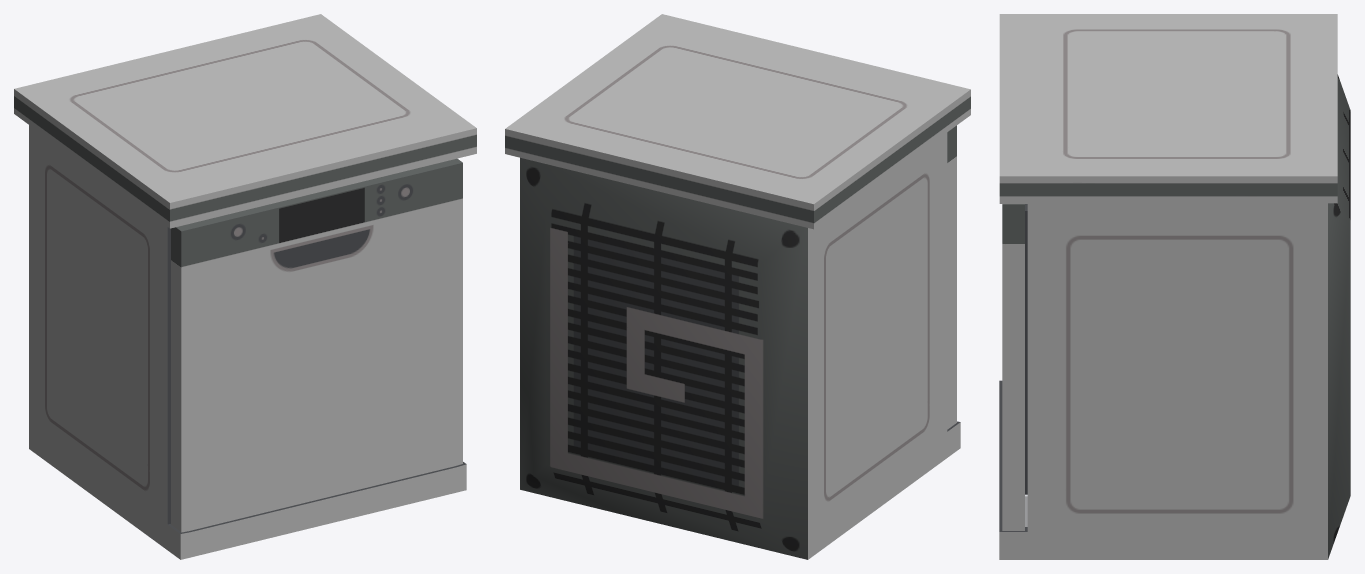
Rendered from ffddc030-1f83-4c6e-96ff-0f6f4659e5d0.glb.
3 views of the same model, side by side, from view 1: azimuth 30°, elevation 25°; view 2: azimuth 150°, elevation 25°; view 3: azimuth 270°, elevation 25° (orthographic). The views are drawn at different scales.
Visible parts, largest first — view 1: Dishwasher1, Door; view 2: Dishwasher1, Door; view 3: Dishwasher1, Door.
Boxes of the visible parts, x1,y1,x2,y2 form: Dishwasher1: [14, 14, 476, 559]; Door: [171, 158, 462, 532]; Dishwasher1: [505, 14, 970, 559]; Door: [947, 125, 956, 429]; Dishwasher1: [999, 14, 1350, 559]; Door: [1002, 204, 1027, 530].
Bounding box in the file's own units: 316 × 354 × 290.
Materials: 1 (1 with a texture image).
